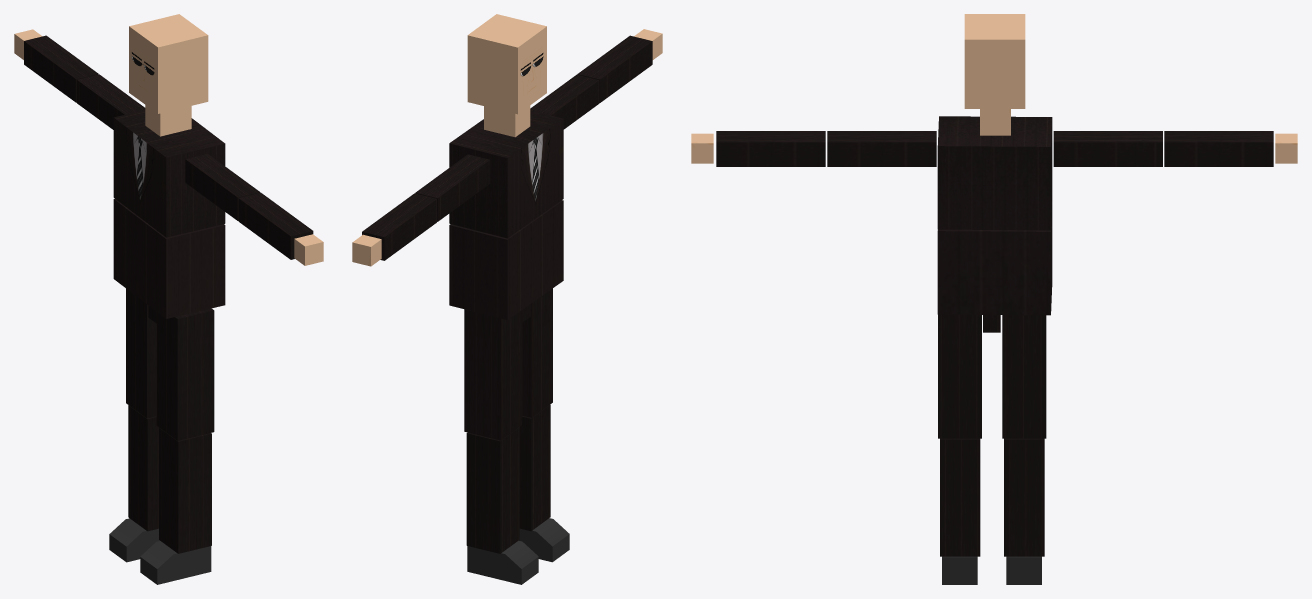
Rendered from vakt.fbx.
The picture shows the model from 3 angles, left to right: view 1: azimuth 30°, elevation 25°; view 2: azimuth 150°, elevation 25°; view 3: azimuth 270°, elevation 25°; orthographic projection. The views are drawn at different scales.
Visible parts, largest first — view 1: pCube8, pCube30, pCube5, pCube6, pCube22, pCube28, pCube27, pCube23, pCube9, pCube25, pCube14, pCube24 (+3 smaller); view 2: pCube8, pCube30, pCube27, pCube6, pCube28, pCube22, pCube5, pCube25, pCube23, pCube24, pCube29, pCube9 (+4 smaller); view 3: pCube8, pCube30, pCube6, pCube27, pCube5, pCube28, pCube22, pCube9, pCube23, pCube24, pCube25, pCube14 (+2 smaller).
Part boxes in pixels (bbox=[...]): pCube8: bbox=[113, 110, 225, 237]; pCube30: bbox=[113, 198, 225, 318]; pCube5: bbox=[156, 308, 214, 440]; pCube6: bbox=[129, 14, 208, 113]; pCube22: bbox=[159, 427, 211, 553]; pCube28: bbox=[128, 405, 158, 531]; pCube27: bbox=[126, 288, 156, 418]; pCube23: bbox=[238, 192, 313, 259]; pCube9: bbox=[185, 154, 260, 220]; pCube25: bbox=[24, 35, 98, 102]; pCube14: bbox=[140, 541, 211, 584]; pCube24: bbox=[77, 74, 145, 129]; pCube8: bbox=[449, 110, 563, 238]; pCube30: bbox=[449, 200, 563, 319]; pCube27: bbox=[464, 309, 521, 440]; pCube6: bbox=[467, 14, 546, 114]; pCube28: bbox=[466, 427, 519, 553]; pCube22: bbox=[519, 404, 550, 531]; pCube5: bbox=[522, 288, 552, 417]; pCube25: bbox=[362, 193, 436, 260]; pCube23: bbox=[577, 35, 652, 102]; pCube24: bbox=[415, 154, 490, 221]; pCube29: bbox=[467, 540, 538, 584]; pCube9: bbox=[530, 74, 599, 129]; pCube8: bbox=[937, 116, 1052, 230]; pCube30: bbox=[937, 202, 1052, 315]; pCube6: bbox=[964, 14, 1025, 108]; pCube27: bbox=[1002, 315, 1046, 438]; pCube5: bbox=[938, 314, 981, 438]; pCube28: bbox=[1004, 438, 1044, 556]; pCube22: bbox=[940, 438, 980, 556]; pCube9: bbox=[827, 131, 936, 166]; pCube23: bbox=[716, 131, 825, 166]; pCube24: bbox=[1053, 131, 1162, 166]; pCube25: bbox=[1164, 131, 1273, 166]; pCube14: bbox=[942, 556, 977, 584].
Bounding box in the file's own units: 4.33 × 32.13 × 32.12.
Materials: 4 (3 with a texture image).
